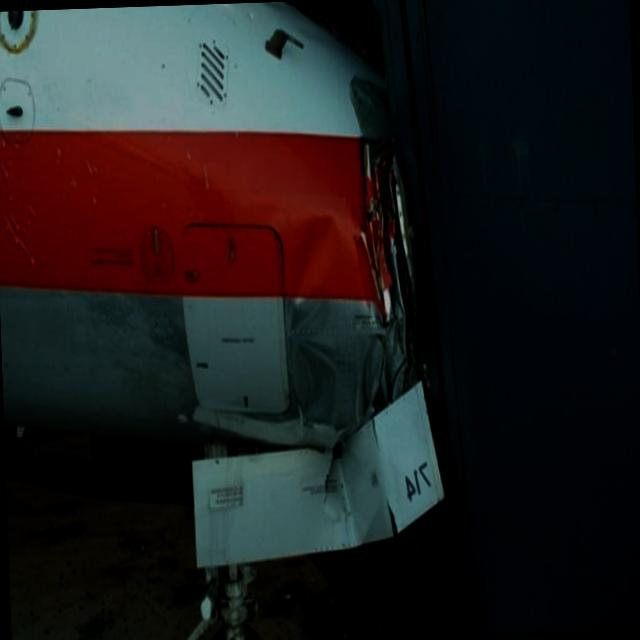dent: (286, 200, 347, 430)
